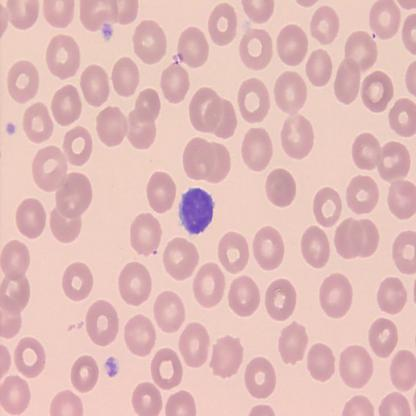Lymphocyte: (178, 186, 216, 237)
